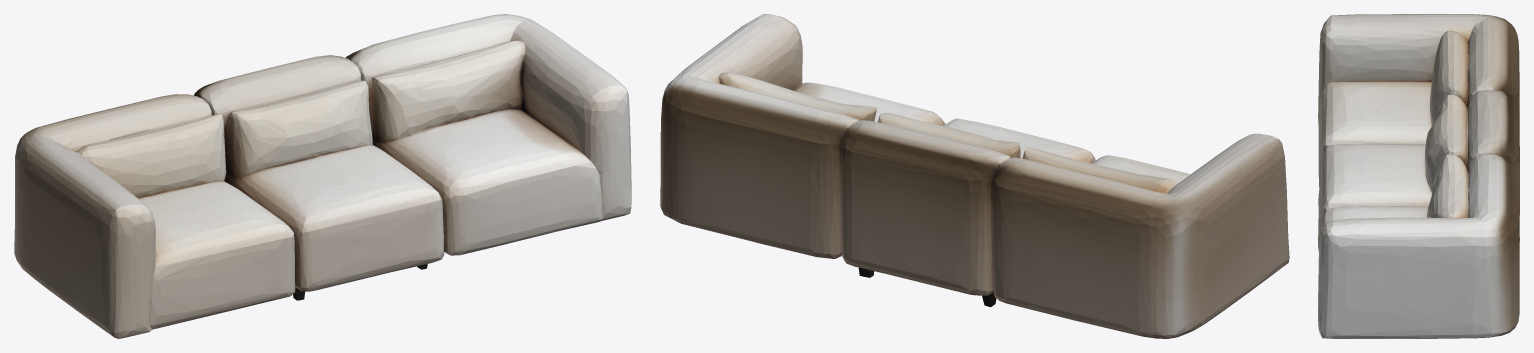
Rendered from sofa.glb.
3 views of the same model, side by side, from view 1: azimuth 30°, elevation 25°; view 2: azimuth 150°, elevation 25°; view 3: azimuth 270°, elevation 25° (orthographic). The views are drawn at different scales.
Parts seen in each view (by area): view 1: world; view 2: world; view 3: world.
Part boxes in pixels (<box>): world: <box>14,14,631,338</box>; world: <box>660,14,1289,338</box>; world: <box>1318,14,1519,338</box>.
Bounding box in the file's own units: 0.9994 × 0.2743 × 0.3829.
1 material, 1 textured.
